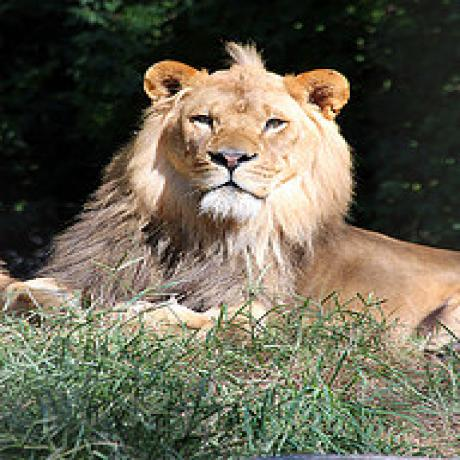Lion: (0, 43, 460, 349)
